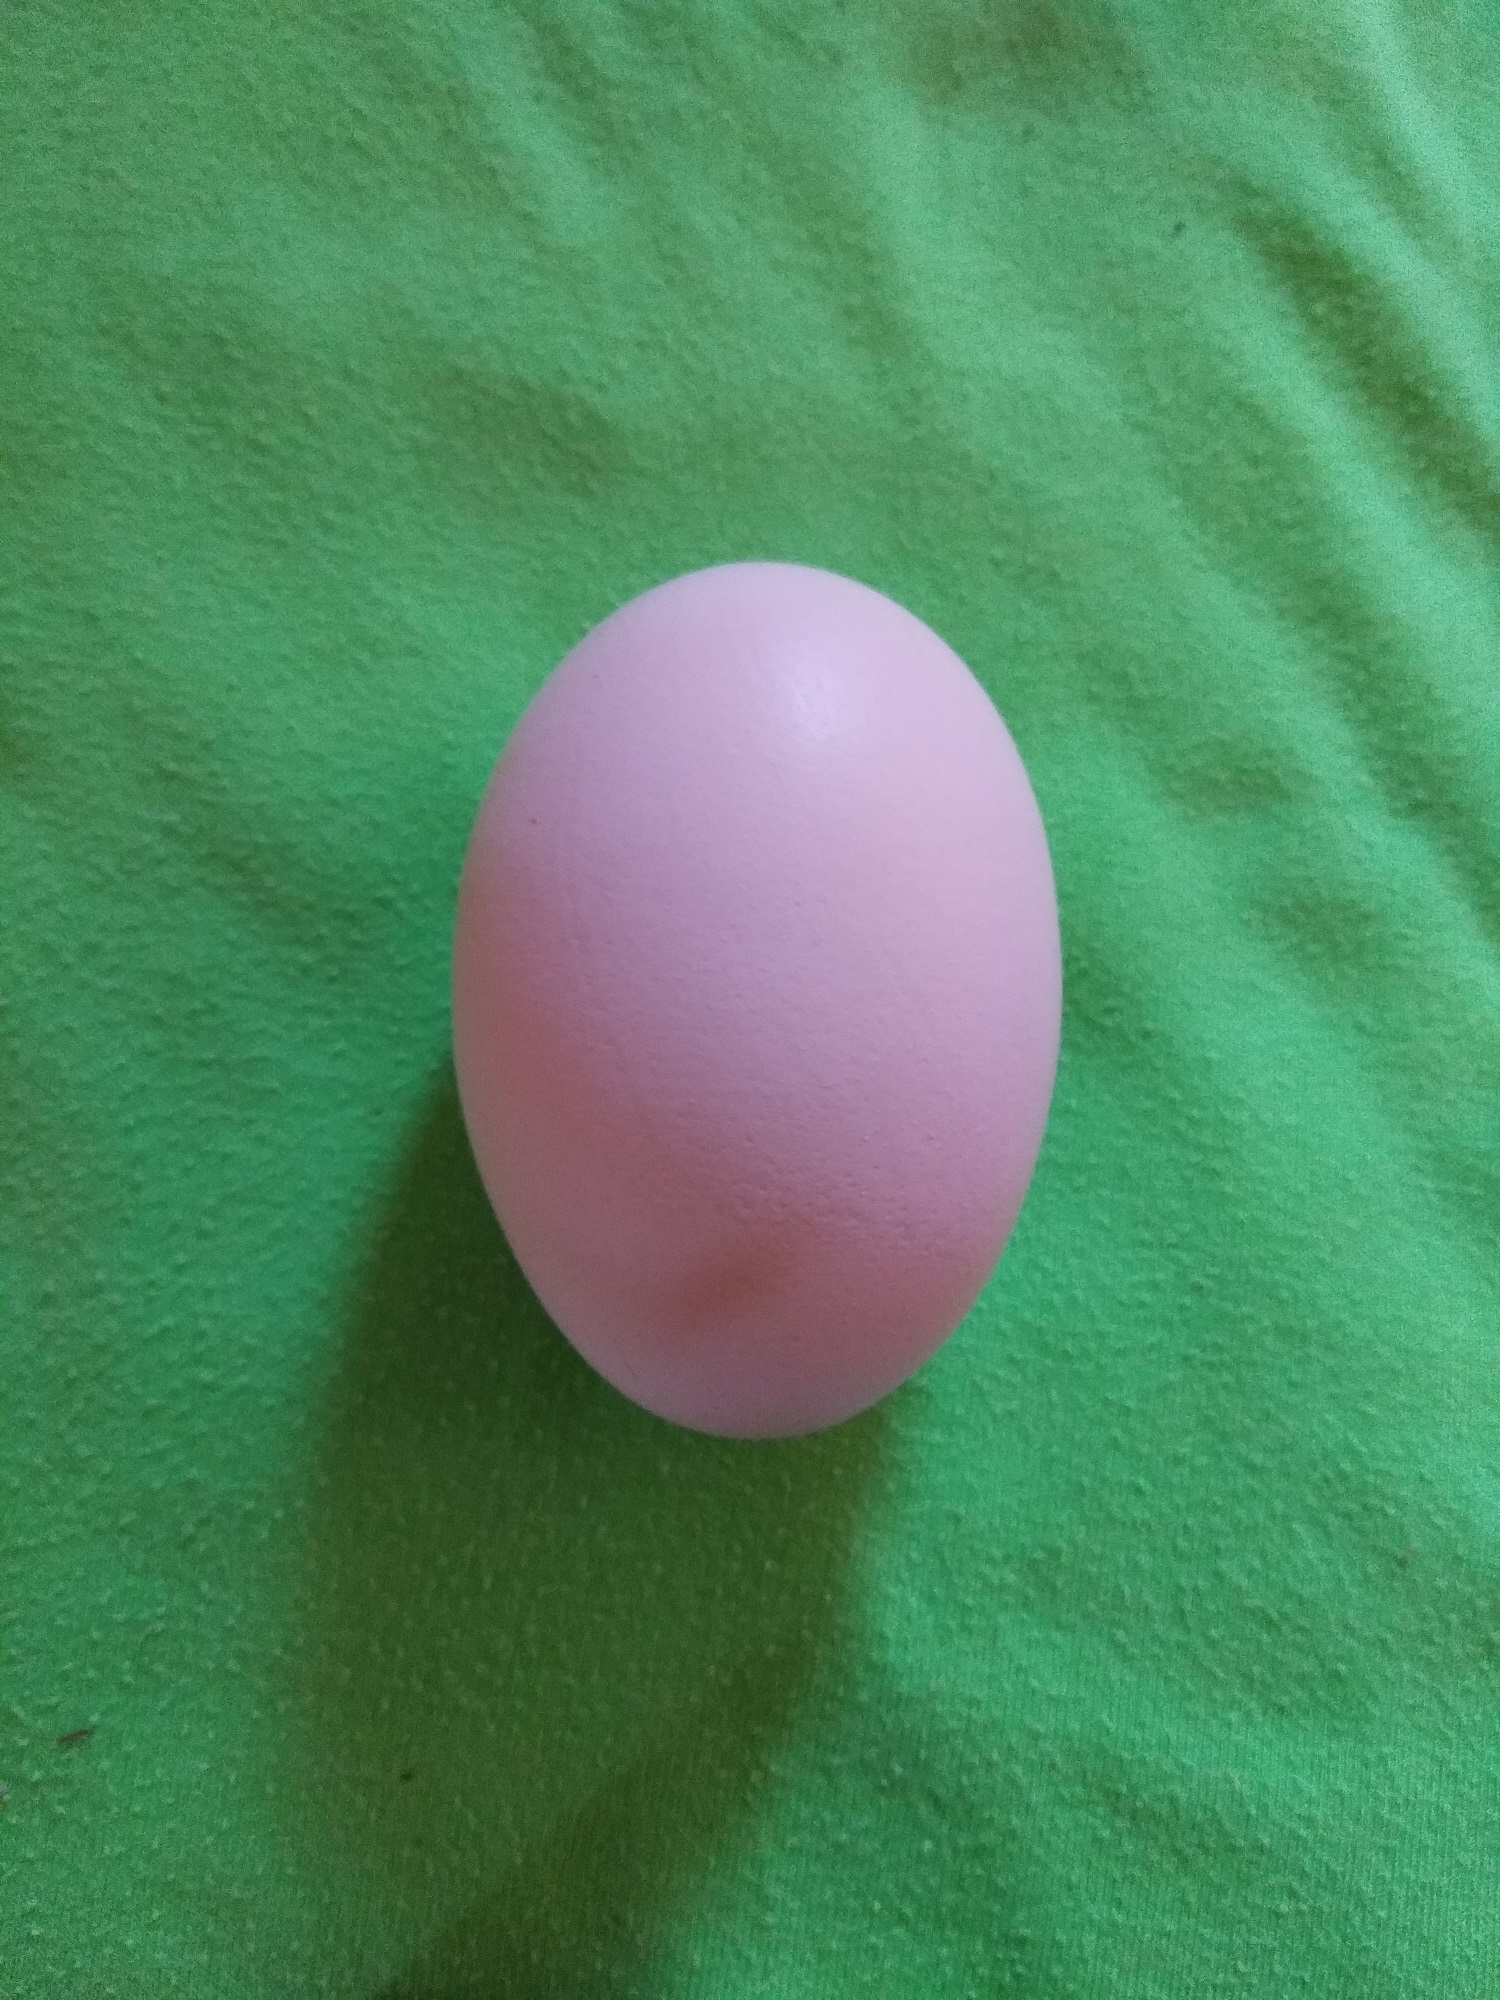Male: (444, 554, 1067, 1447)
